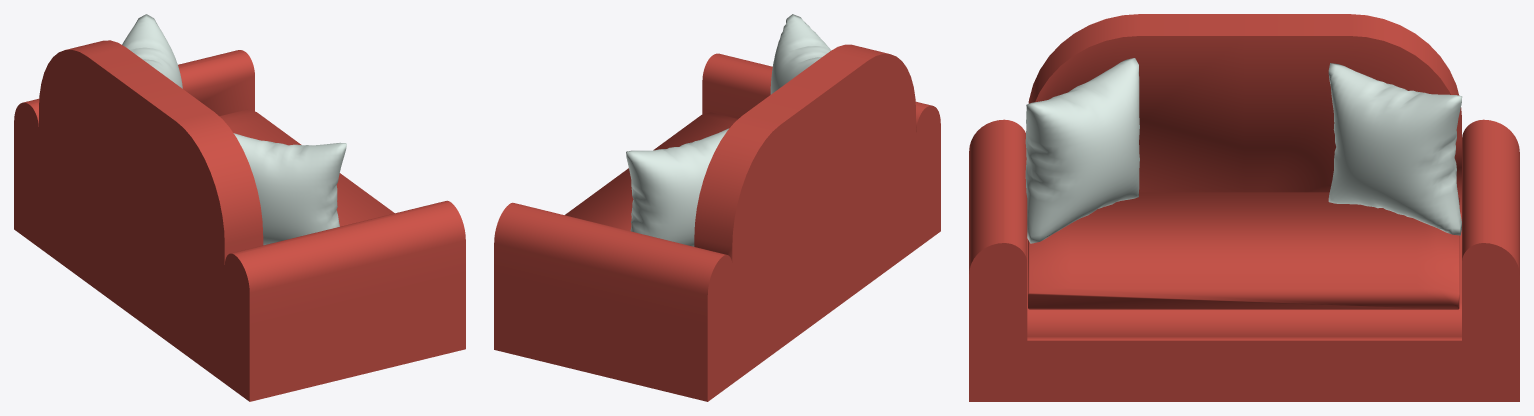
The model's file is Old_Couch(v2).fbx.
The picture shows the model from 3 angles, left to right: view 1: azimuth 30°, elevation 25°; view 2: azimuth 150°, elevation 25°; view 3: azimuth 270°, elevation 25°; orthographic projection. The views are drawn at different scales.
Visible parts, largest first — view 1: Body, Pillow Set2.001, Seat, Pillow Set2; view 2: Body, Pillow Set2, Seat, Pillow Set2.001; view 3: Body, Seat, Pillow Set2, Pillow Set2.001, Bottom.
Part boxes in pixels (x1,y1,x2,y2): Body: (14,40,465,401); Pillow Set2.001: (233,133,346,245); Seat: (219,109,394,226); Pillow Set2: (122,14,182,88); Body: (494,44,940,401); Pillow Set2: (626,128,728,246); Seat: (565,112,737,231); Pillow Set2.001: (770,14,831,94); Body: (969,14,1519,401); Seat: (1028,192,1459,309); Pillow Set2: (1328,63,1462,235); Pillow Set2.001: (1025,58,1139,243); Bottom: (1027,213,1461,340).
Bounding box in the file's own units: 773 × 775 × 1461.
